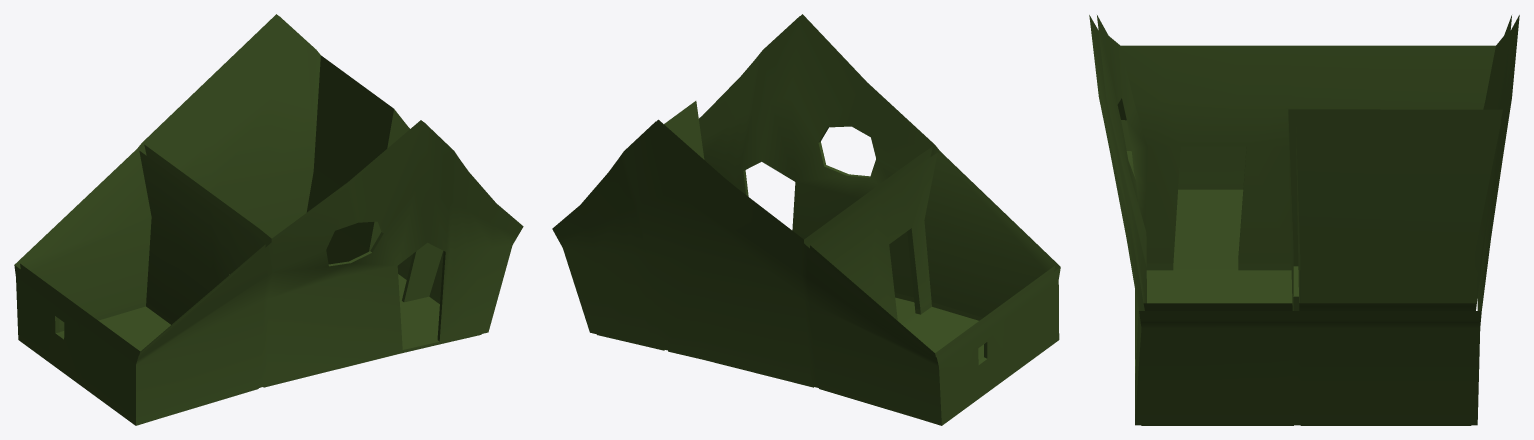
File: bearHut.fbx
The picture shows the model from 3 angles, left to right: view 1: azimuth 30°, elevation 25°; view 2: azimuth 150°, elevation 25°; view 3: azimuth 270°, elevation 25°; orthographic projection. The views are drawn at different scales.
Visible parts, largest first — view 1: house_GEO; view 2: house_GEO; view 3: house_GEO.
Boxes of the visible parts, box(x1,y1,x2,y2) form: house_GEO: box(14, 14, 523, 425); house_GEO: box(552, 14, 1060, 425); house_GEO: box(1089, 15, 1519, 425).
Bounding box in the file's own units: 3457 × 2130 × 2262.
